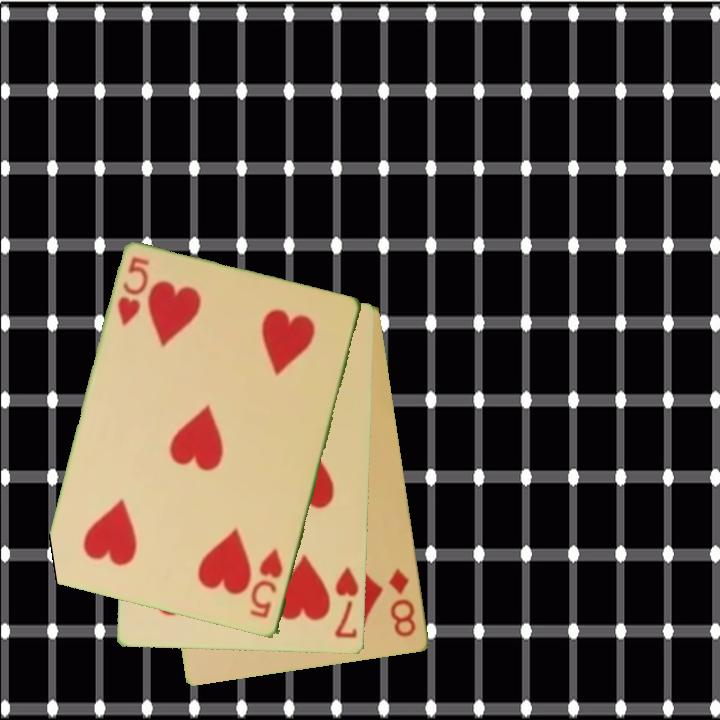5h: (247, 546, 286, 622), (114, 253, 153, 329)
7h: (331, 564, 362, 641)
8d: (385, 565, 420, 640)
